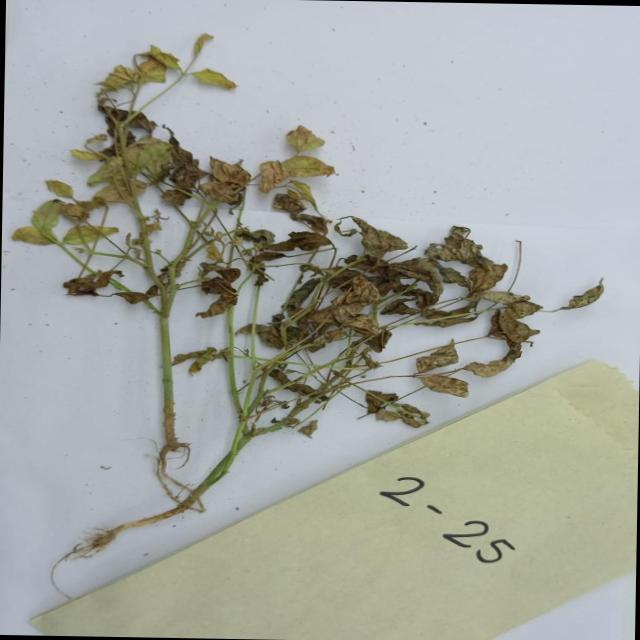Root: (48, 520, 150, 580), (137, 433, 190, 496)
Stem: (215, 399, 261, 504), (149, 315, 188, 434), (129, 210, 170, 312), (223, 313, 250, 419)
rooten_leaf: (334, 195, 514, 303), (259, 274, 414, 348), (87, 36, 261, 100), (454, 281, 546, 381), (31, 171, 126, 248), (254, 125, 334, 203), (190, 219, 252, 315), (245, 206, 338, 264), (170, 140, 248, 209), (90, 104, 174, 158), (361, 382, 443, 432), (402, 346, 474, 398)
